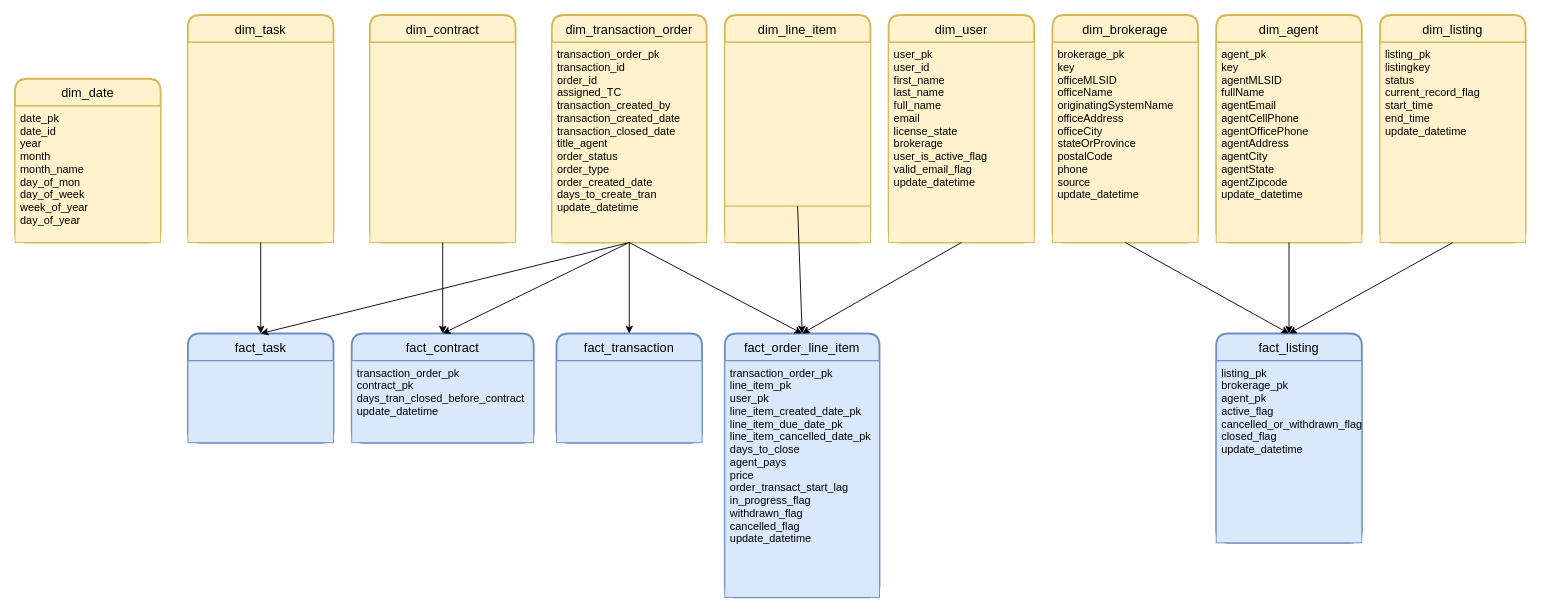
The diagram is 1541 pixels wide and 612 high, and some of its shapes have lost their labels. The centre of each missing label's shape, as x and y in pixels:
"contract_pk contract_id party contract_closing_date" goes at (x=442, y=142).
"line_item_pk line_item_id status description" goes at (x=797, y=224).
"line_item_pk line_item_id status description update_datetime" goes at (x=797, y=123).
"task_pk task_id party task_due_date task_completed_date update_datetime" goes at (x=260, y=142).
"transaction_order_pk task_pk days_to_complete_tran update_datetime" goes at (x=260, y=401).
"transaction_order_pk title_agent_flag update_datetime" goes at (x=629, y=401).
